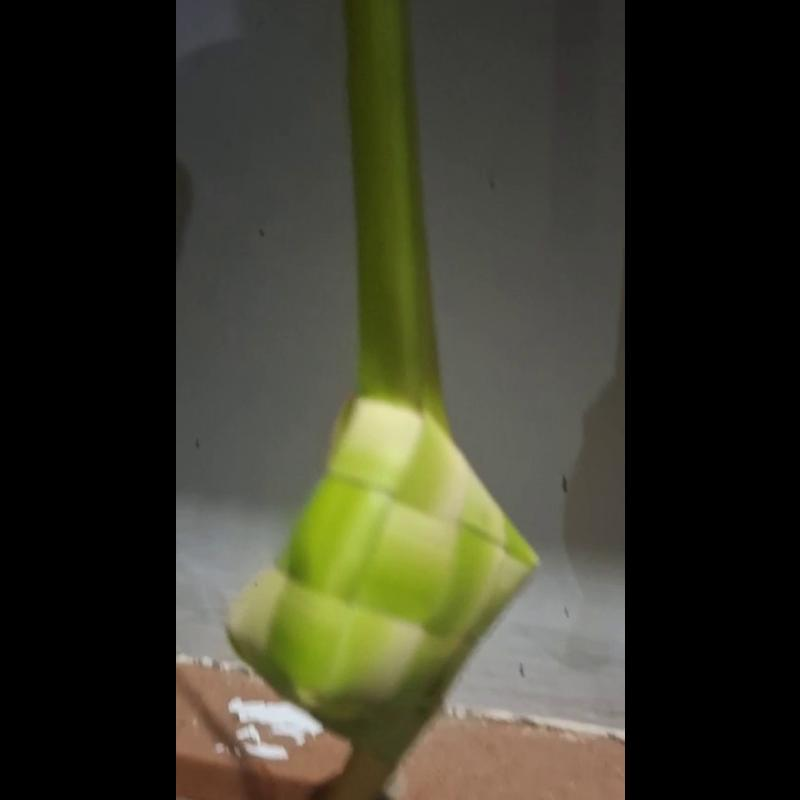Tipat Nasi: (229, 374, 549, 798)
